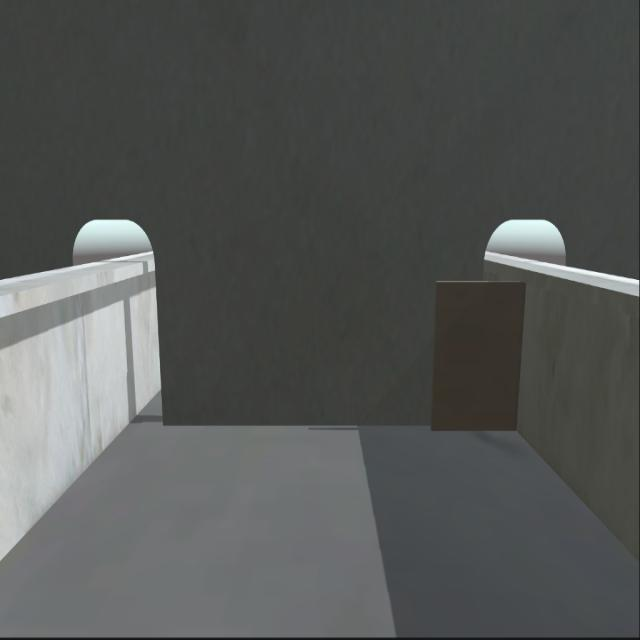fillet_yong_jeop_jang: (161, 417, 519, 431)
longi_yong_jeop_jang: (508, 284, 534, 431)
plate_CP01: (427, 280, 526, 437)
